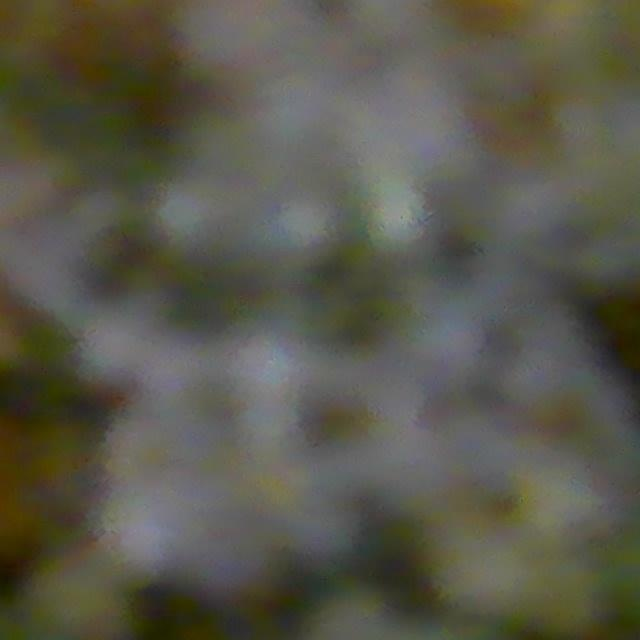SeaGrape: (444, 516, 535, 624), (196, 0, 278, 88), (529, 452, 606, 537), (265, 186, 339, 267), (494, 341, 567, 418), (185, 521, 263, 593), (234, 381, 303, 460), (360, 173, 429, 246), (152, 186, 214, 260), (193, 121, 260, 188), (109, 508, 173, 577), (348, 0, 424, 58), (288, 488, 352, 552), (544, 544, 591, 629), (498, 172, 557, 239)
